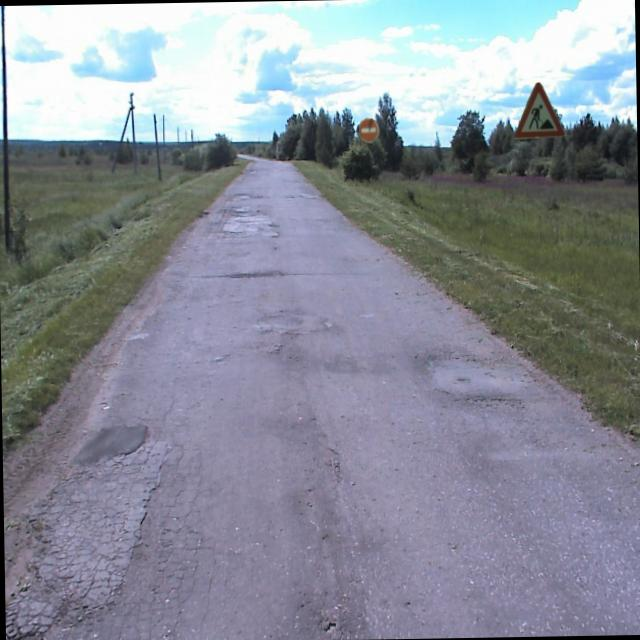road: (5, 153, 640, 640)
